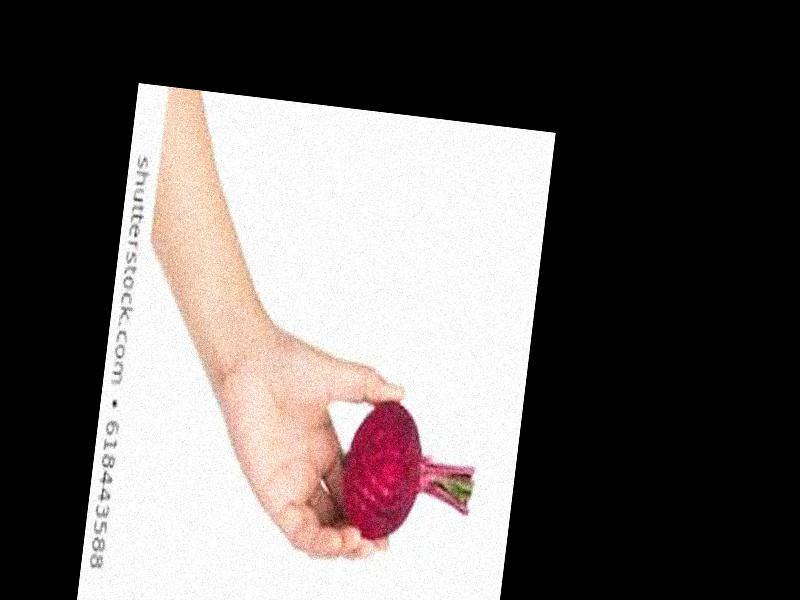Beet: (334, 397, 482, 554)
